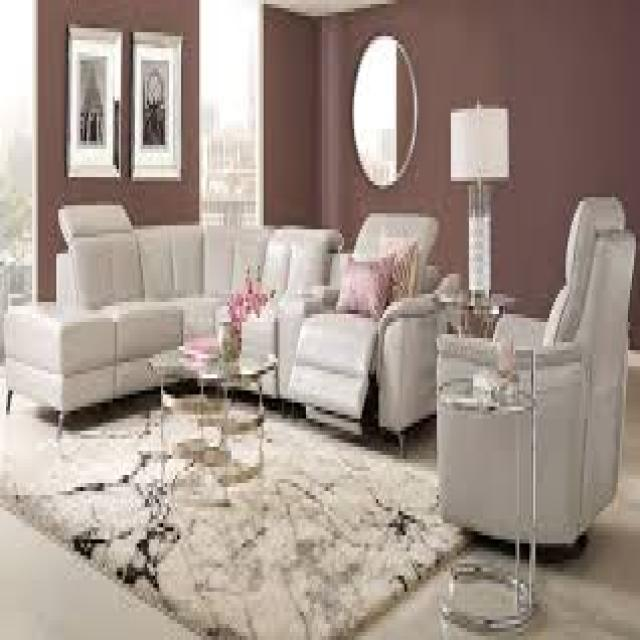Chair: (438, 214, 632, 531)
Lamp: (450, 99, 507, 309)
Sofa: (1, 191, 441, 460)
Table: (436, 362, 539, 628), (151, 342, 271, 534)
